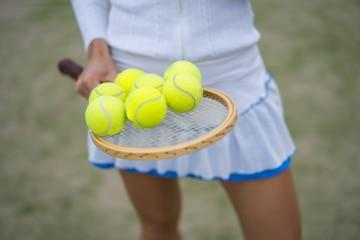ball_tennis: (166, 72, 204, 113), (86, 98, 127, 135), (127, 89, 167, 126)
